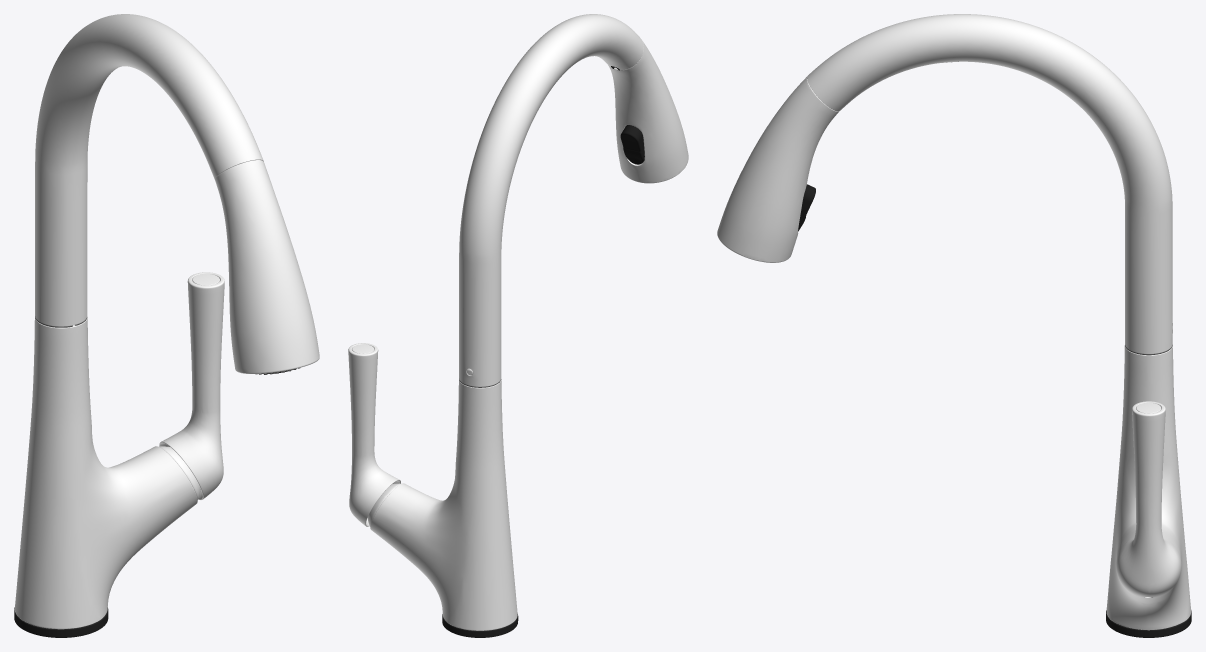
Rendered from 2_02_CabinetFaucet_77748T.glb.
The picture shows the model from 3 angles, left to right: view 1: azimuth 30°, elevation 25°; view 2: azimuth 150°, elevation 25°; view 3: azimuth 270°, elevation 25°; orthographic projection. The views are drawn at different scales.
Visible parts, largest first — view 1: 77748T_4; view 2: 77748T_4; view 3: 77748T_4.
Part boxes in pixels (x1,y1,x2,y2): 77748T_4: (14,14,319,637); 77748T_4: (348,14,688,637); 77748T_4: (717,14,1191,637).
Bounding box in the file's own units: 0.0551 × 0.1729 × 0.123.
Materials: 1 (1 with a texture image).
